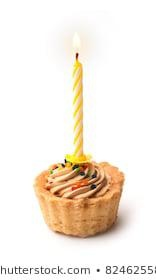fire: (63, 44, 90, 165)
